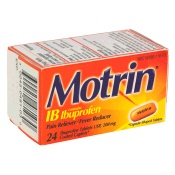grozi_18: (7, 29, 168, 145)
